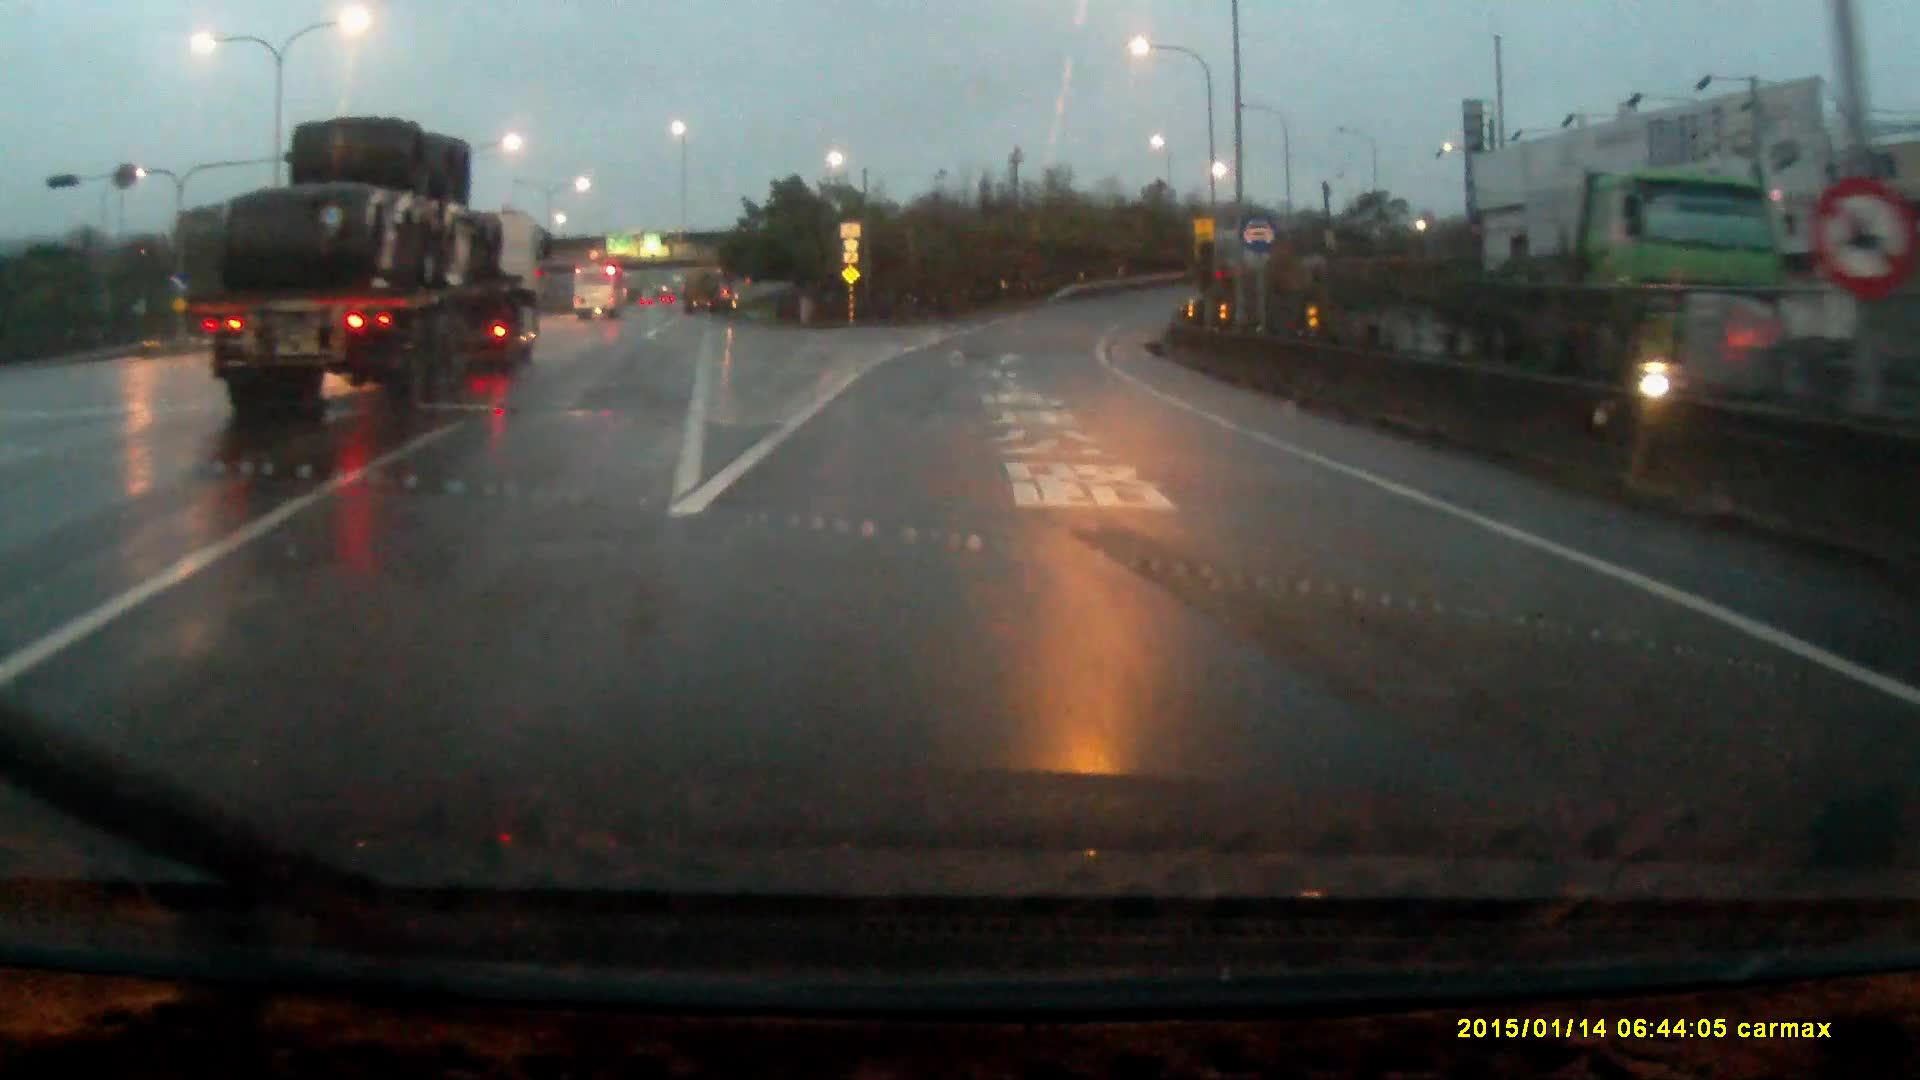vehicle: (191, 115, 551, 409), (571, 262, 624, 320)
